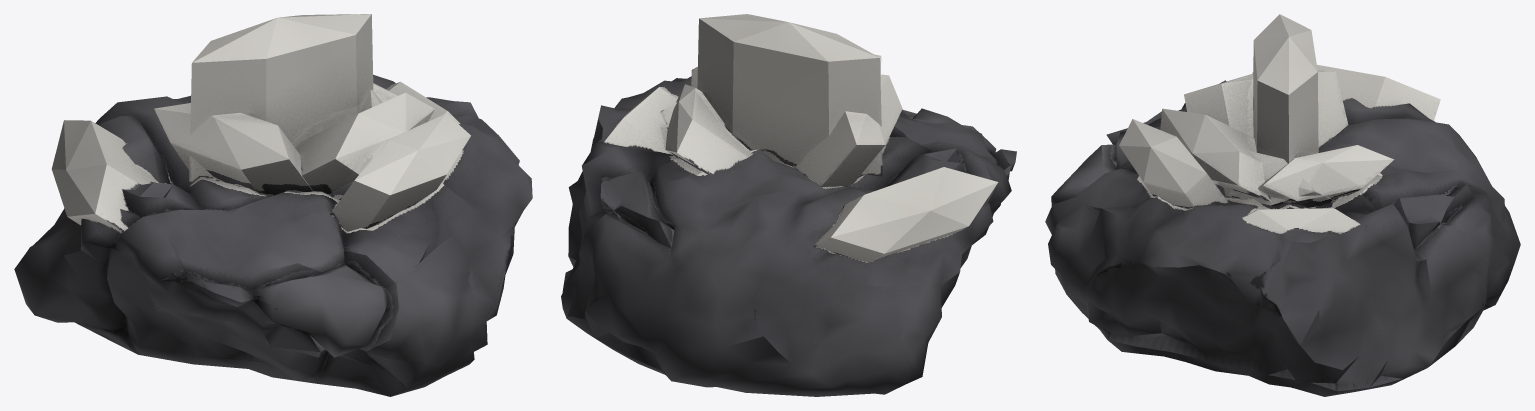
The model's file is mineral_mica.fbx.
The picture shows the model from 3 angles, left to right: view 1: azimuth 30°, elevation 25°; view 2: azimuth 150°, elevation 25°; view 3: azimuth 270°, elevation 25°; orthographic projection. The views are drawn at different scales.
Parts seen in each view (by area): view 1: mineral_mica; view 2: mineral_mica; view 3: mineral_mica.
Boxes of the visible parts, bbox=[...] form: mineral_mica: bbox=[14, 14, 532, 396]; mineral_mica: bbox=[561, 14, 1016, 396]; mineral_mica: bbox=[1045, 14, 1520, 396].
Bounding box in the file's own units: 2 × 1.38 × 2.16.
Materials: 1 (1 with a texture image).
